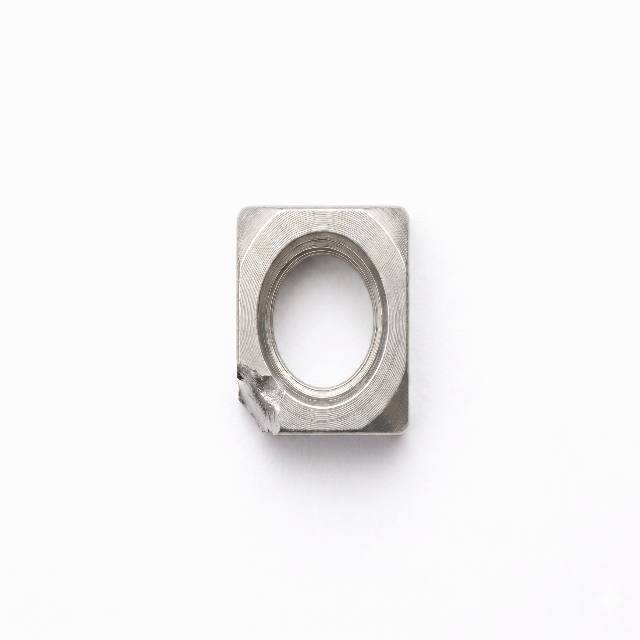defect: (229, 356, 284, 439)
